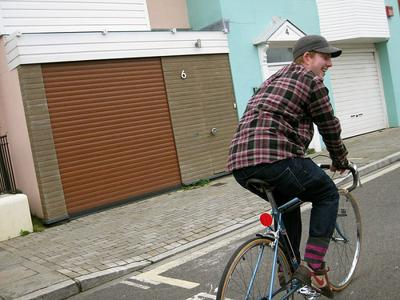person: (226, 37, 352, 298)
